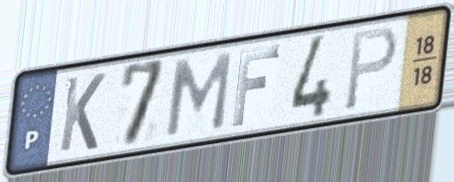4: (287, 30, 336, 123)
7: (119, 58, 168, 152)
F: (230, 43, 284, 130)
K: (56, 70, 109, 155)
M: (162, 49, 235, 140)
P: (342, 23, 400, 115)
